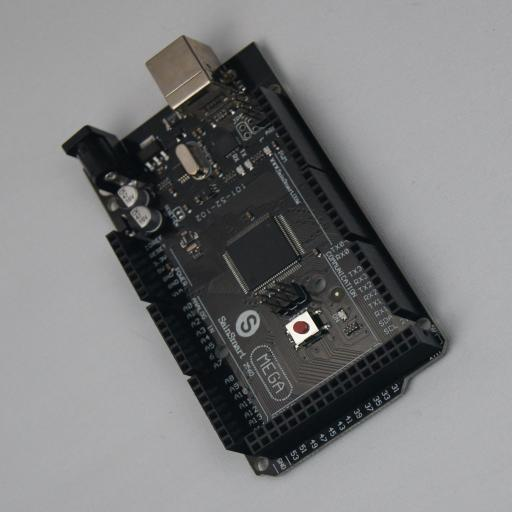Arduino Mega 2560 -Black-: (62, 35, 451, 477)
